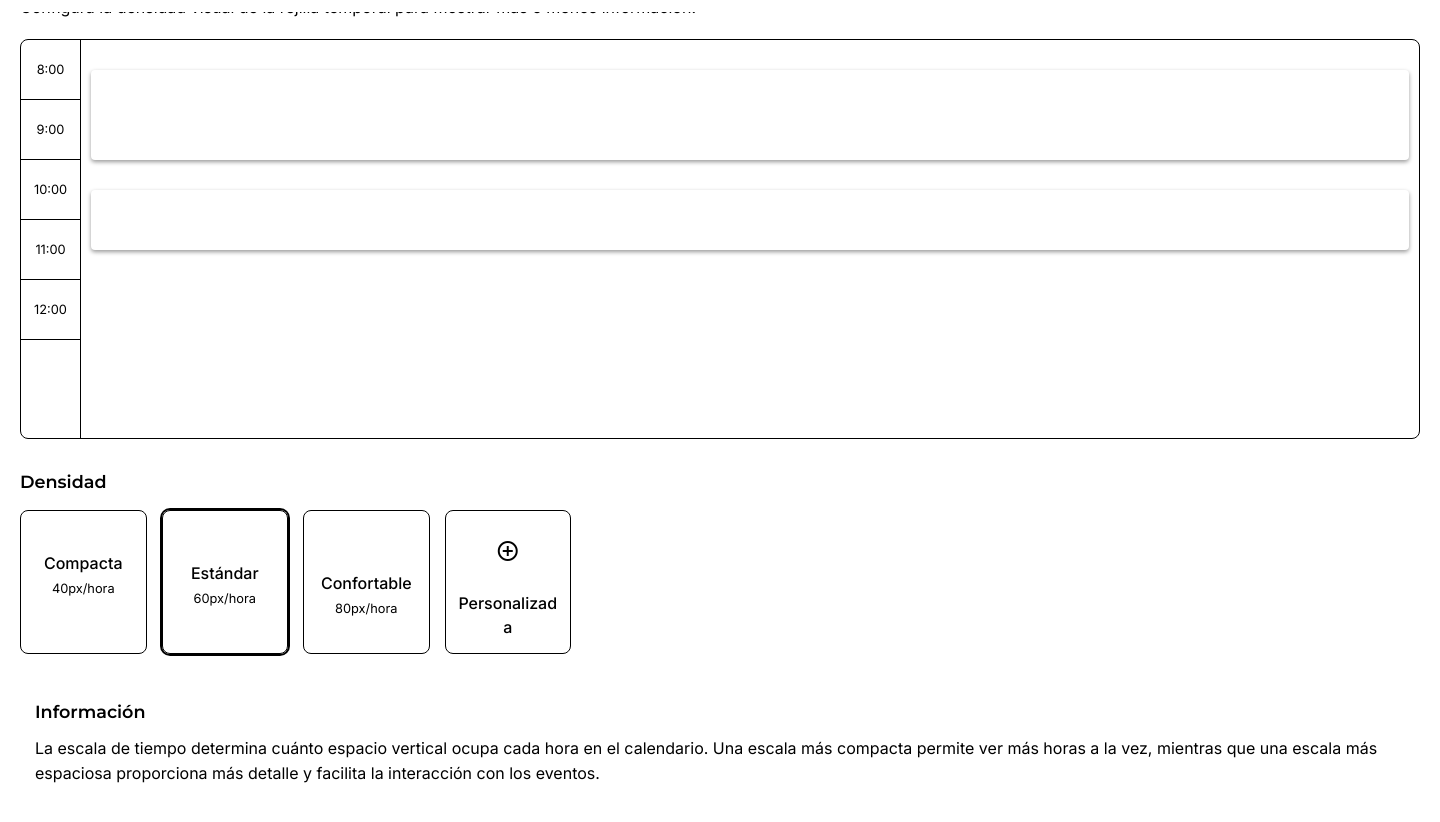
Test: TimeScaleConfig Component › debe ocultar el input personalizado al hacer clic en Cancelar
This screenshot has width=1440, height=822.
(page scrolled)
Click the text "Personalizada" at {"x": 508, "y": 582}, box [444, 510, 571, 654]
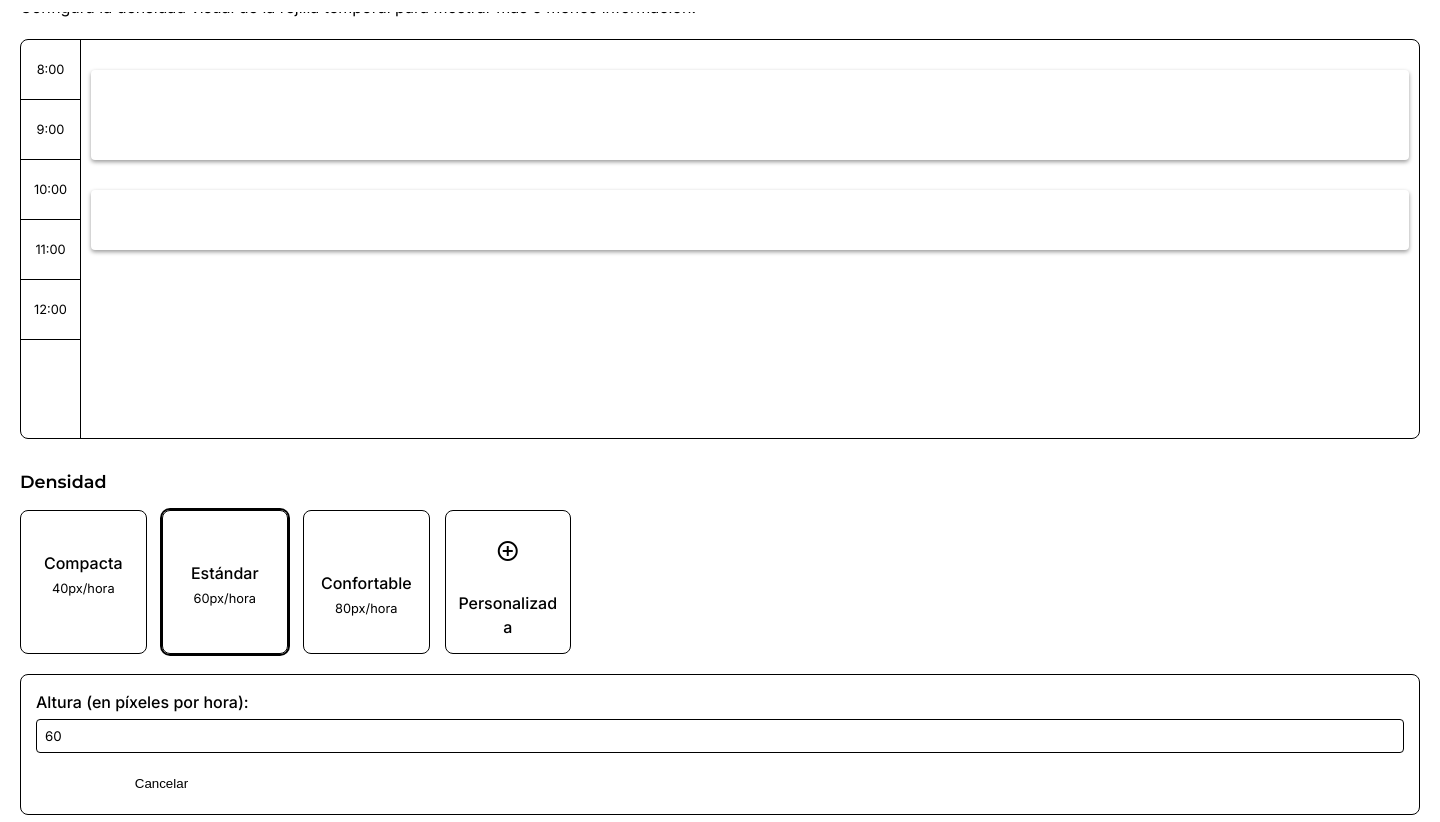
Expected: the number field labelled "Altura (en píxeles por hora):" is shown, [36, 719, 1404, 753]
Click the button "Cancelar" at {"x": 161, "y": 784}, box [119, 768, 204, 799]
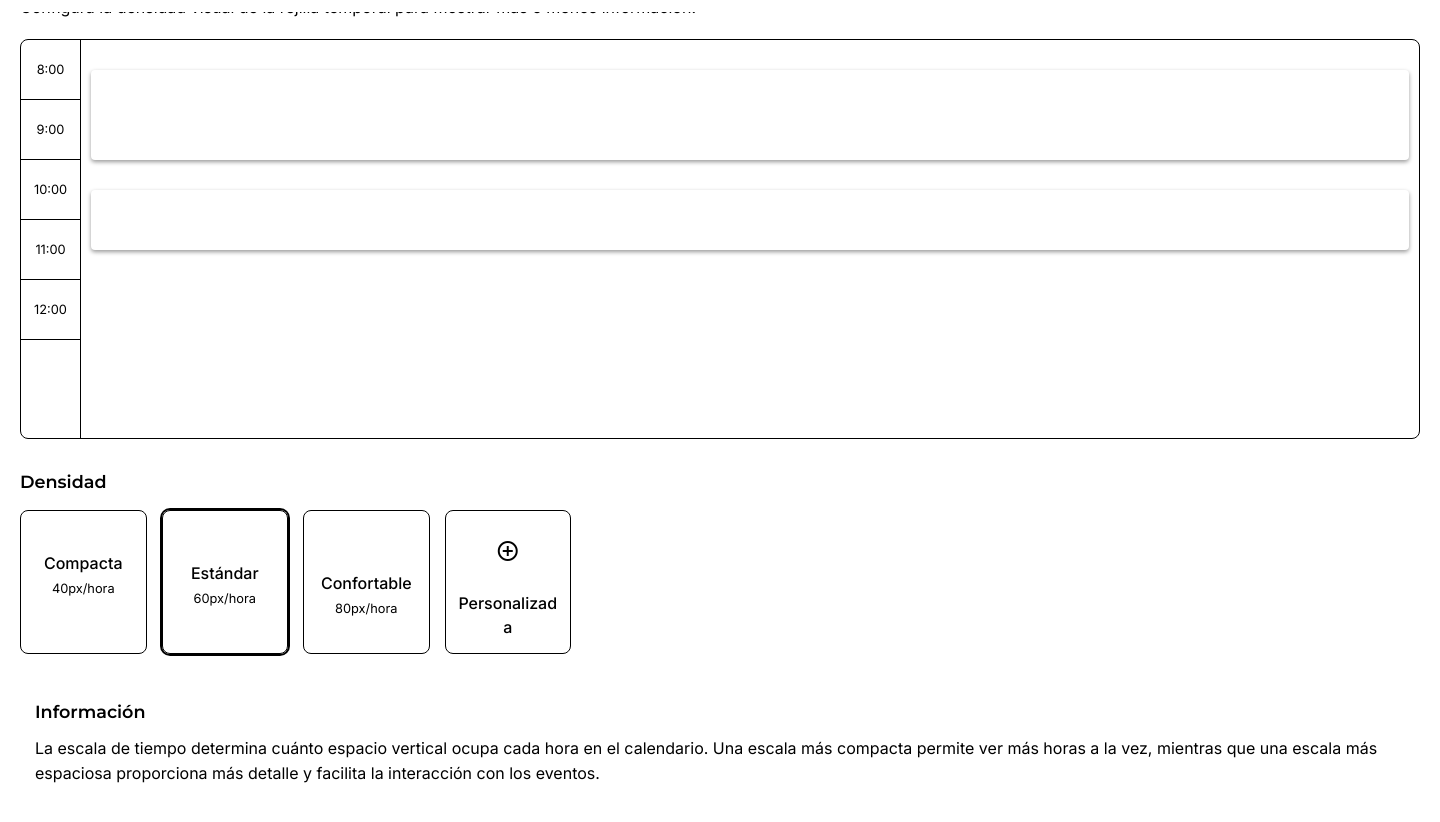
Expected: the label labelled "Altura (en píxeles por hora):" is gone
